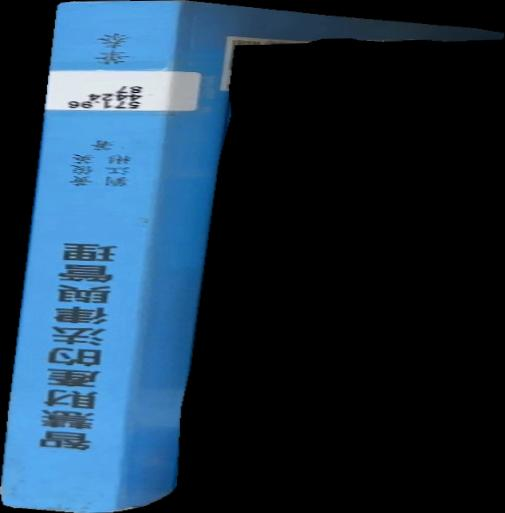reverse: (1, 1, 505, 513)
